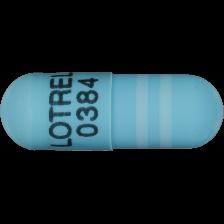0078-0384: (0, 0, 224, 224)
